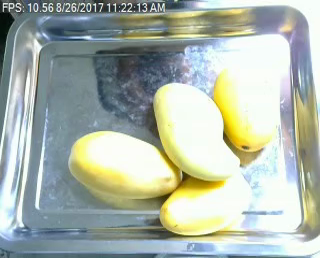Mango: (152, 83, 243, 182), (68, 131, 183, 199), (159, 167, 254, 233), (212, 68, 276, 152)
